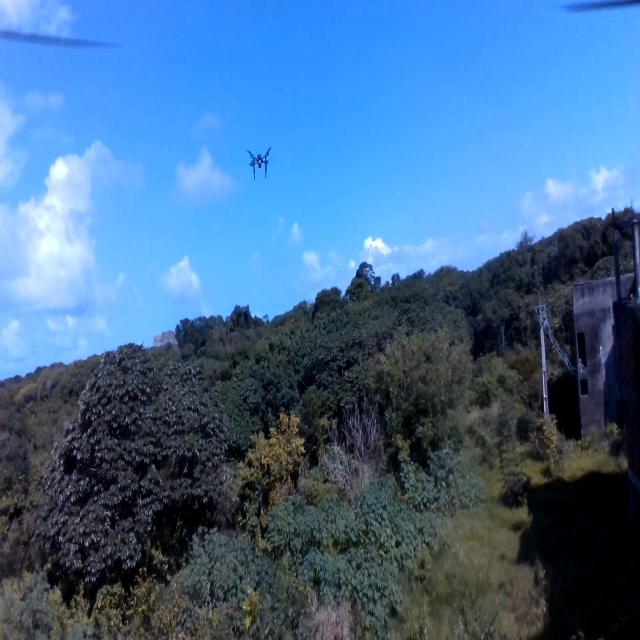-uav-: (242, 140, 276, 181)
